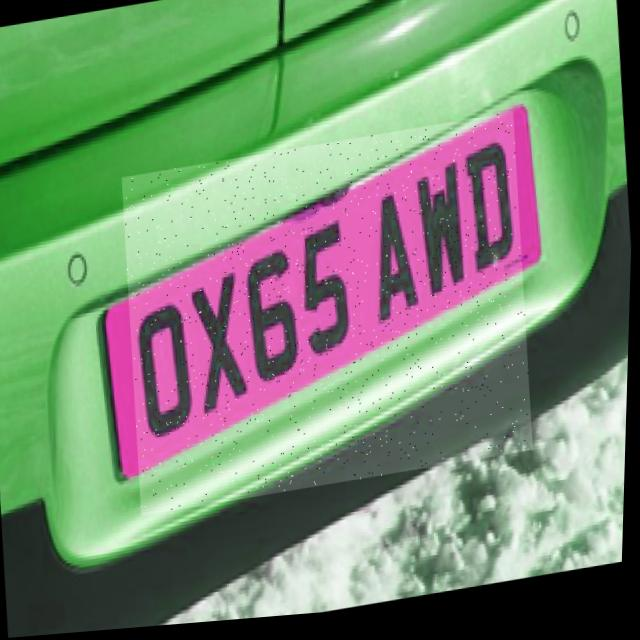license_plate: (115, 118, 543, 520)
